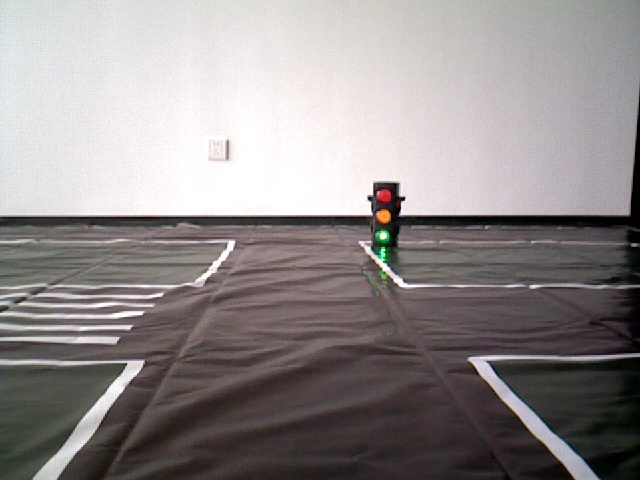green: (371, 183, 394, 246)
